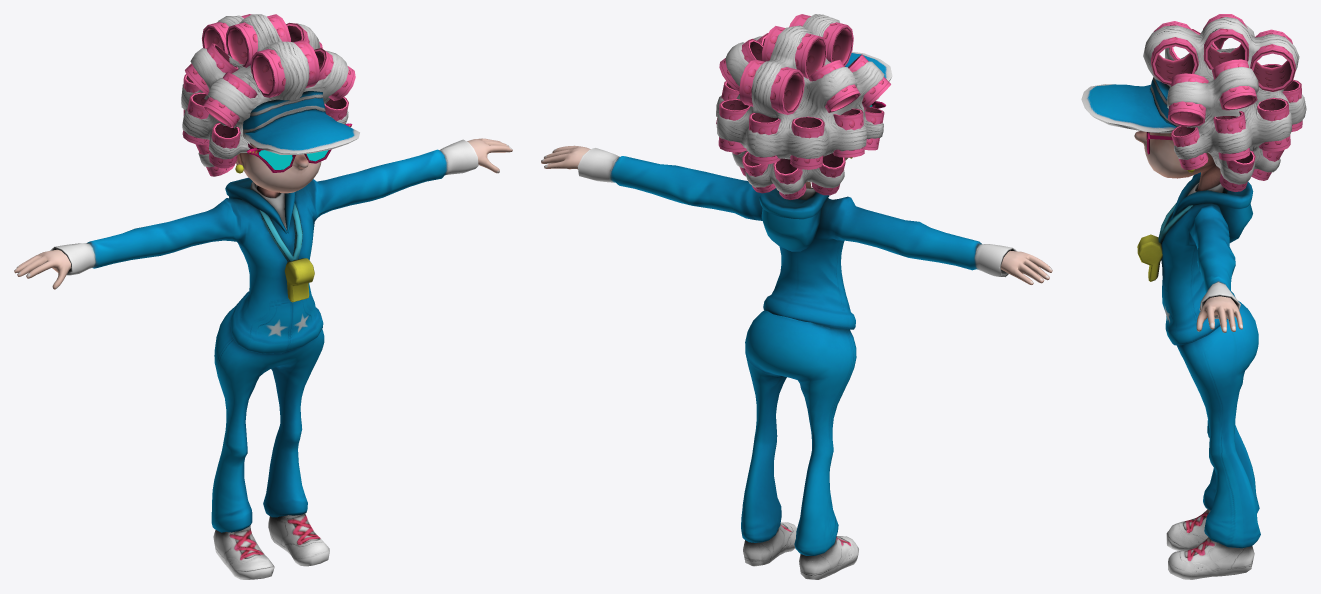
File: girl2.glb
3 renders of one model, left to right at view 1: azimuth 30°, elevation 25°; view 2: azimuth 150°, elevation 25°; view 3: azimuth 270°, elevation 25°, orthographic.
Parts seen in each view (by area): view 1: Fitness_Grandma_BodyGeo; view 2: Fitness_Grandma_BodyGeo; view 3: Fitness_Grandma_BodyGeo.
Boxes of the visible parts, <box> form: Fitness_Grandma_BodyGeo: <box>14,14,512,579</box>; Fitness_Grandma_BodyGeo: <box>541,14,1052,579</box>; Fitness_Grandma_BodyGeo: <box>1081,14,1306,579</box>.
Bounding box in the file's own units: 0.6617 × 0.6853 × 0.2593.
2 materials, 1 textured.
